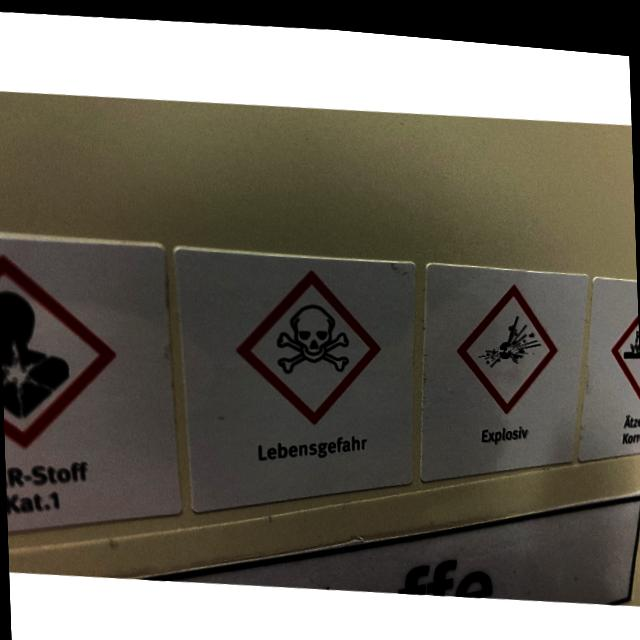acute toxicity: (232, 256, 384, 426)
corrosive: (610, 301, 640, 389)
explosive: (454, 269, 560, 409)
serious health hazard: (0, 249, 118, 453)
